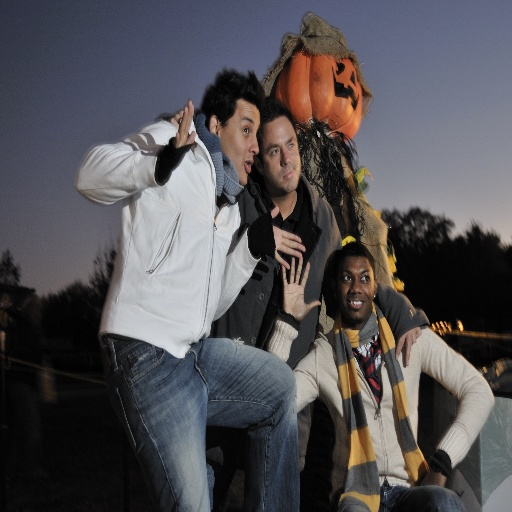hand: (281, 255, 321, 321), (270, 204, 305, 268), (156, 98, 199, 150), (394, 325, 422, 365), (419, 470, 446, 486), (165, 109, 183, 127)
